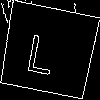L: (23, 25, 60, 76)
